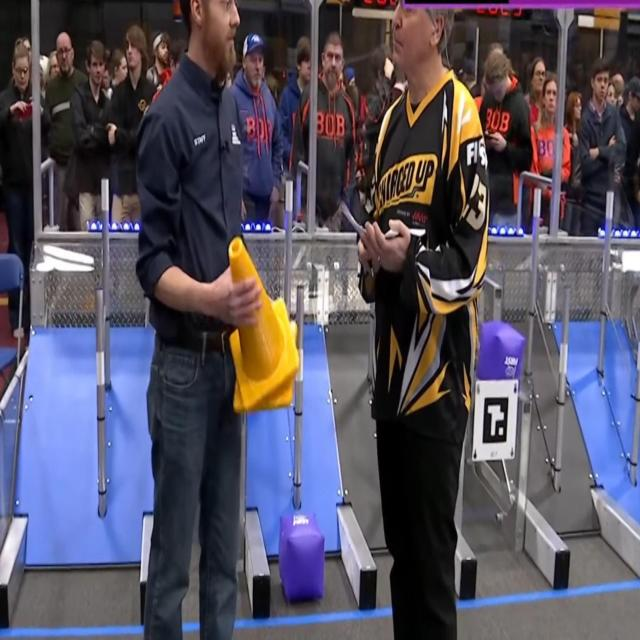frc_cone: (228, 235, 300, 411)
frc_cube: (278, 513, 325, 602), (477, 319, 523, 387)
